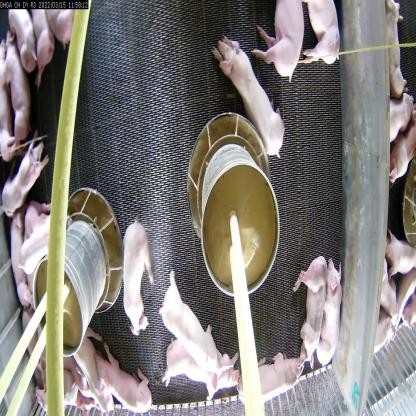Pig: (218, 37, 285, 152), (161, 342, 241, 414), (154, 271, 218, 359), (240, 342, 304, 415), (96, 339, 156, 415), (121, 210, 156, 335), (67, 321, 112, 415), (2, 134, 46, 226), (320, 260, 350, 387), (265, 0, 302, 91), (7, 196, 32, 309), (1, 40, 28, 134), (30, 1, 58, 83), (24, 223, 62, 282), (303, 258, 324, 364), (7, 5, 40, 69)
